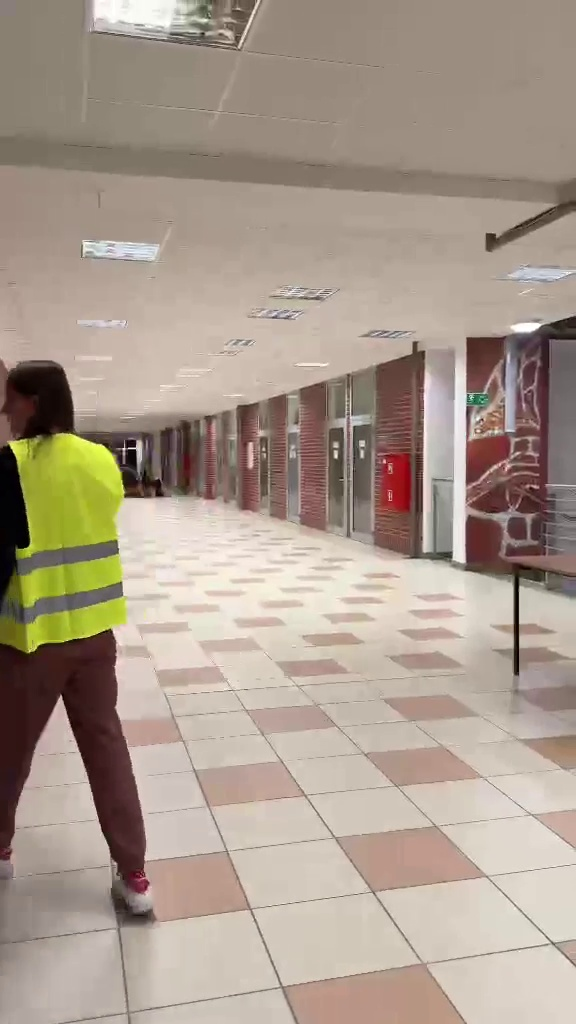vest: (0, 360, 159, 922)
